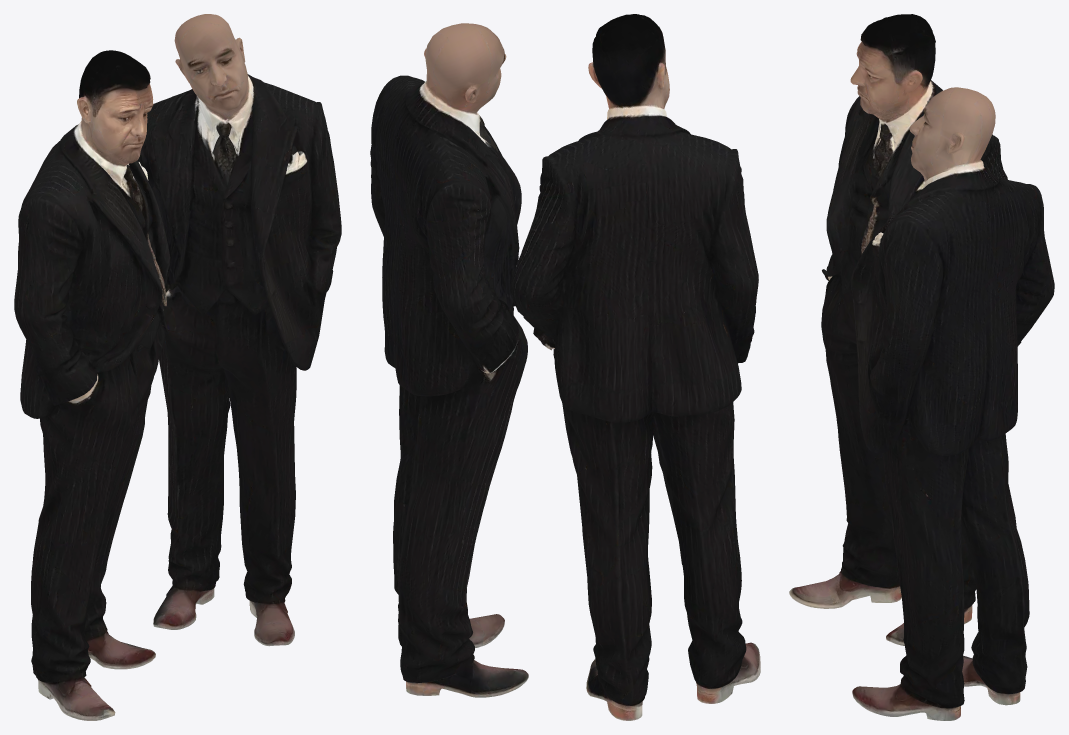
Rendered from pinstripe.glb.
3 renders of one model, left to right at view 1: azimuth 30°, elevation 25°; view 2: azimuth 150°, elevation 25°; view 3: azimuth 270°, elevation 25°, orthographic. The views are drawn at different scales.
Bounding box in the file's own units: 1.08 × 1.9 × 0.7415.
1 material, 1 textured.
